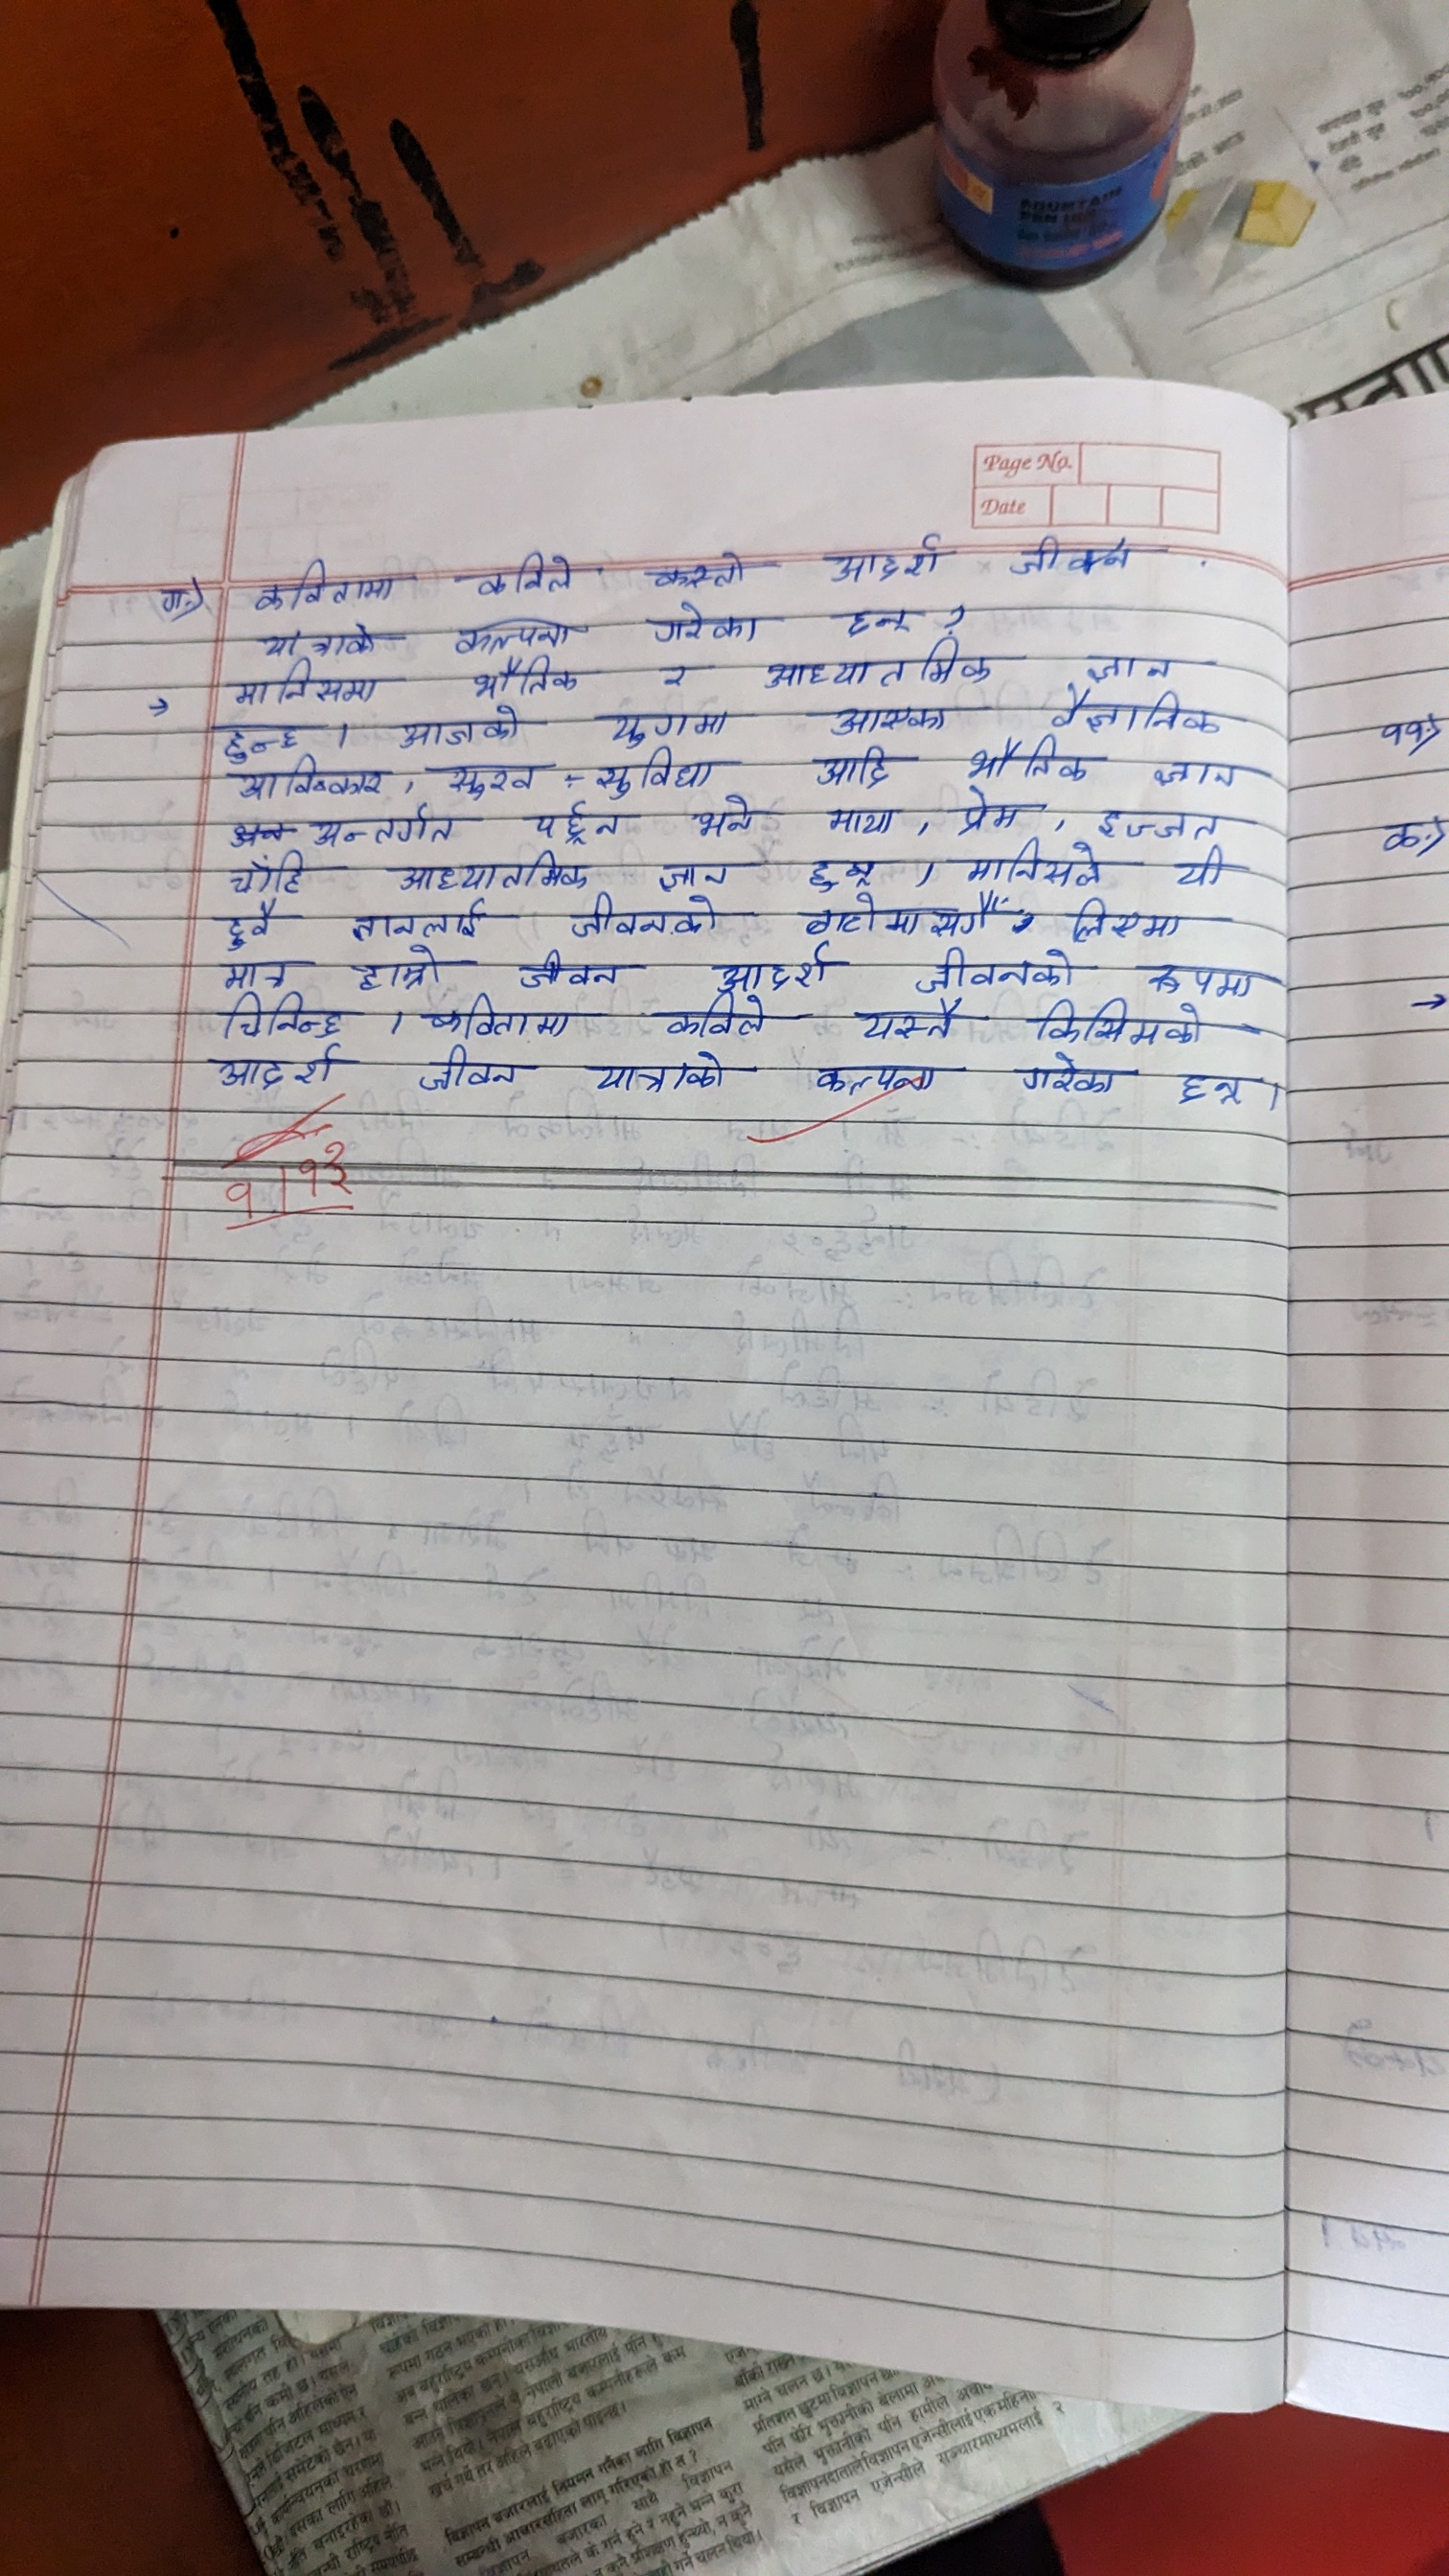text: (1030, 998, 1212, 1054), (798, 893, 1010, 941), (242, 554, 410, 614), (764, 648, 998, 690), (586, 1049, 748, 1104), (1039, 688, 1231, 732), (911, 948, 1085, 996), (1005, 524, 1148, 580), (393, 855, 589, 895), (205, 1042, 354, 1095), (308, 801, 465, 851), (223, 662, 405, 704), (409, 1046, 531, 1106), (952, 844, 1111, 890), (819, 531, 948, 587), (563, 897, 727, 941), (803, 1063, 952, 1111), (214, 993, 352, 1040), (338, 899, 499, 939), (425, 998, 570, 1042), (584, 748, 717, 796), (393, 706, 534, 750), (704, 945, 835, 991), (225, 763, 389, 798), (1012, 1056, 1122, 1109), (662, 994, 778, 1044), (1060, 895, 1185, 941), (472, 550, 593, 598), (1139, 954, 1274, 996), (962, 740, 1102, 780), (640, 602, 766, 646), (1092, 801, 1226, 842), (451, 612, 570, 655), (349, 943, 446, 994), (508, 952, 630, 993), (522, 800, 630, 846), (856, 998, 973, 1040), (800, 743, 902, 791), (600, 711, 738, 747), (640, 548, 748, 593), (458, 658, 579, 695), (435, 755, 545, 796), (219, 853, 317, 897), (255, 628, 389, 660), (828, 702, 945, 738), (212, 901, 290, 952), (1146, 755, 1253, 793), (1166, 1065, 1253, 1109), (945, 787, 1028, 832), (800, 849, 888, 888), (212, 722, 308, 757), (1085, 648, 1175, 685), (837, 602, 915, 644), (692, 798, 763, 842), (149, 566, 203, 623), (1168, 846, 1233, 892), (648, 856, 736, 890), (823, 801, 902, 839), (216, 955, 301, 987), (656, 655, 692, 692)
